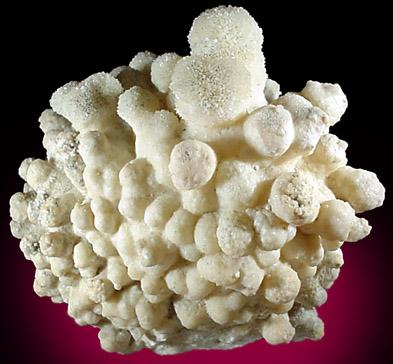calcite: (10, 6, 386, 355)
